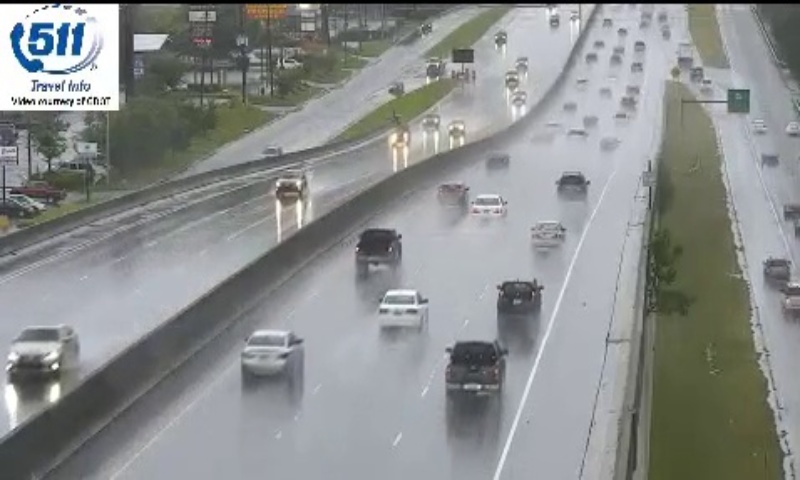car: (445, 339, 505, 396), (241, 329, 302, 375), (379, 289, 426, 327), (354, 228, 400, 266), (497, 280, 538, 318), (470, 194, 505, 222), (532, 222, 564, 249)
